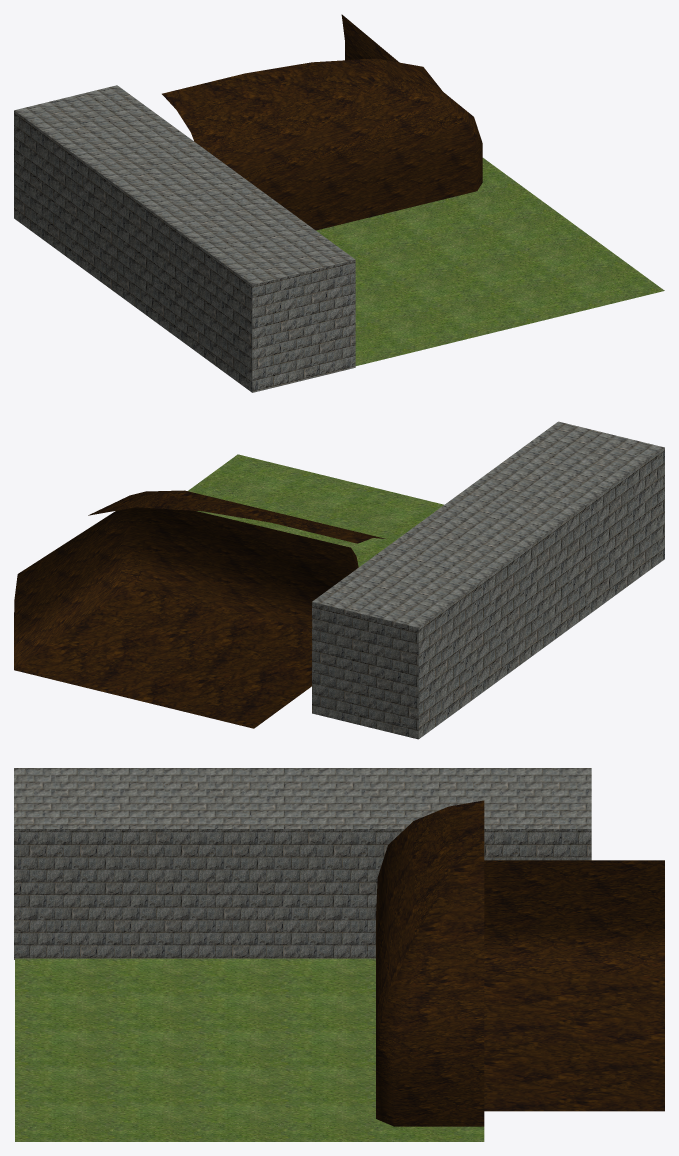
The model's file is world.glb.
3 renders of one model, top to bottom at view 1: azimuth 30°, elevation 25°; view 2: azimuth 150°, elevation 25°; view 3: azimuth 270°, elevation 25°, orthographic. The views are drawn at different scales.
Visible parts, largest first — view 1: 2 - Castle, 3.1 - Cave roof, 1 - Grass, 3 - Cave; view 2: 2 - Castle, 3 - Cave, 1 - Grass, 3.1 - Cave roof; view 3: 2 - Castle, 1 - Grass, 3 - Cave, 3.1 - Cave roof.
Part boxes in pixels (x1,y1,x2,y2): 2 - Castle: (14, 85, 355, 392); 3.1 - Cave roof: (162, 58, 482, 230); 1 - Grass: (316, 158, 664, 365); 3 - Cave: (341, 14, 399, 62); 2 - Castle: (312, 421, 664, 739); 3 - Cave: (14, 507, 358, 728); 1 - Grass: (188, 454, 443, 567); 3.1 - Cave roof: (88, 490, 386, 543); 2 - Castle: (14, 768, 591, 959); 1 - Grass: (15, 958, 484, 1141); 3 - Cave: (484, 860, 664, 1111); 3.1 - Cave roof: (376, 800, 484, 1126).
Bounding box in the file's own units: 16 × 4.88 × 18.03.
3 materials, 3 textured.
